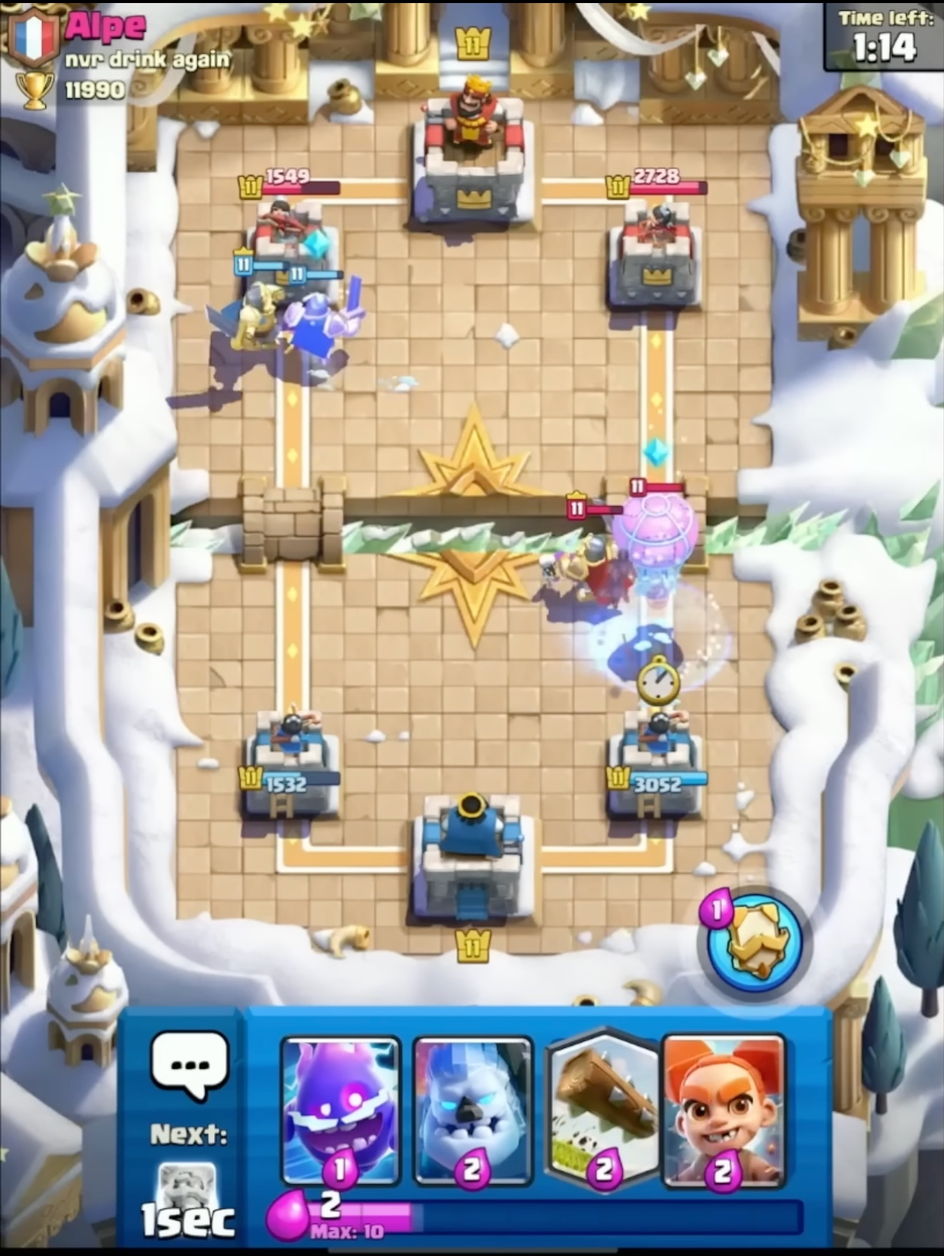balloon: (611, 472, 701, 618)
hero-knight: (555, 484, 642, 627)
